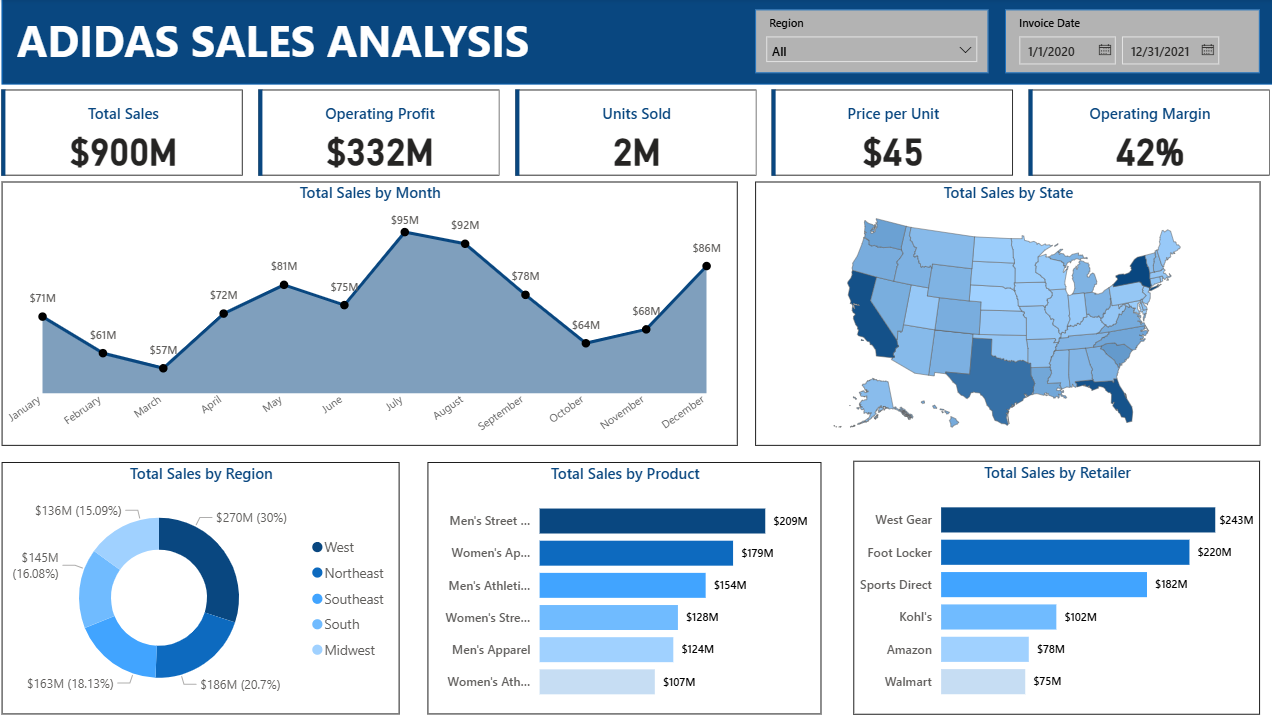

Layout of this report page (visuals, bound fields, positions):
{"tool":"powerbi","page":{"name":"Page 1","canvas":[1280,720],"ordinal":0},"visuals":[{"type":"shape","box":[21.4,0,1259.3,85.5],"z":0},{"type":"textbox","box":[31.4,7.5,555.5,69.1],"z":1000},{"type":"cardVisual","fields":{"Data":["Sum(Data Sales Adidas.Total Sales)","Sum(Data Sales Adidas.Operating Profit)","Sum(Data Sales Adidas.Units Sold)","Avg(Data Sales Adidas.Price per Unit)","Avg(Data Sales Adidas.Operating Margin)"]},"box":[16.3,85.5,1263.1,95.5],"z":2000},{"type":"areaChart","title":"Total Sales by Month","fields":{"Y":["Sum(Data Sales Adidas.Total Sales)"],"Category":["Data Sales Adidas.Invoice Date.Variation.Date Hierarchy.Month"]},"box":[22,180.4,725.2,260.2],"z":3000},{"type":"shapeMap","title":"Total Sales by State","fields":{"Category":["Data Sales Adidas.State"],"Value":["Sum(Data Sales Adidas.Total Sales)"]},"box":[764.1,181,497.7,260.2],"z":4000},{"type":"donutChart","title":"Total Sales by Region","fields":{"Y":["Sum(Data Sales Adidas.Total Sales)"],"Category":["Data Sales Adidas.Region"]},"box":[21.4,457.5,392.1,248.8],"z":5000},{"type":"barChart","title":"Total Sales by Product","fields":{"Y":["Sum(Data Sales Adidas.Total Sales)"],"Category":["Data Sales Adidas.Product"]},"box":[441.1,457.5,388.3,248.8],"z":6000},{"type":"barChart","title":"Total Sales by Retailer","fields":{"Y":["Sum(Data Sales Adidas.Total Sales)"],"Category":["Data Sales Adidas.Retailer"]},"box":[860.9,456.2,400.9,250.1],"z":7000},{"type":"slicer","fields":{"Values":["Data Sales Adidas.Region"]},"box":[764.1,11.3,230,62.8],"z":8000},{"type":"slicer","fields":{"Values":["Data Sales Adidas.Invoice Date"]},"box":[1010.5,11.3,251.4,62.8],"z":9000}]}

Visuals, with their boxes in screenshot pixels (x1, y1, x2, y2), scaled from the page's 1280x720 canvas onto the 1272x721 screenshot:
shape: l=21, t=0, r=1271, b=86
textbox: l=31, t=8, r=583, b=77
cardVisual - Sum(Data Sales Adidas.Total Sales) x Sum(Data Sales Adidas.Operating Profit): l=16, t=86, r=1271, b=181
"Total Sales by Month" areaChart: l=22, t=181, r=743, b=441
"Total Sales by State" shapeMap: l=759, t=181, r=1254, b=442
"Total Sales by Region" donutChart: l=21, t=458, r=411, b=707
"Total Sales by Product" barChart: l=438, t=458, r=824, b=707
"Total Sales by Retailer" barChart: l=856, t=457, r=1254, b=707
slicer - Data Sales Adidas.Region: l=759, t=11, r=988, b=74
slicer - Data Sales Adidas.Invoice Date: l=1004, t=11, r=1254, b=74
